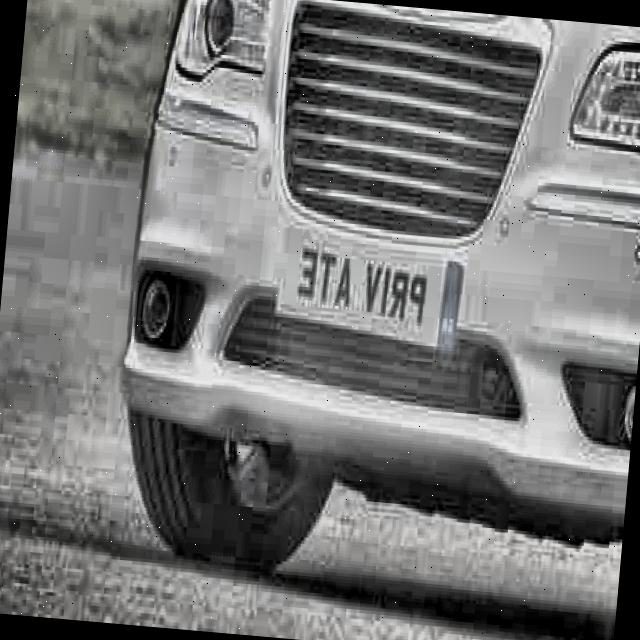license_plate: (278, 232, 464, 346)
